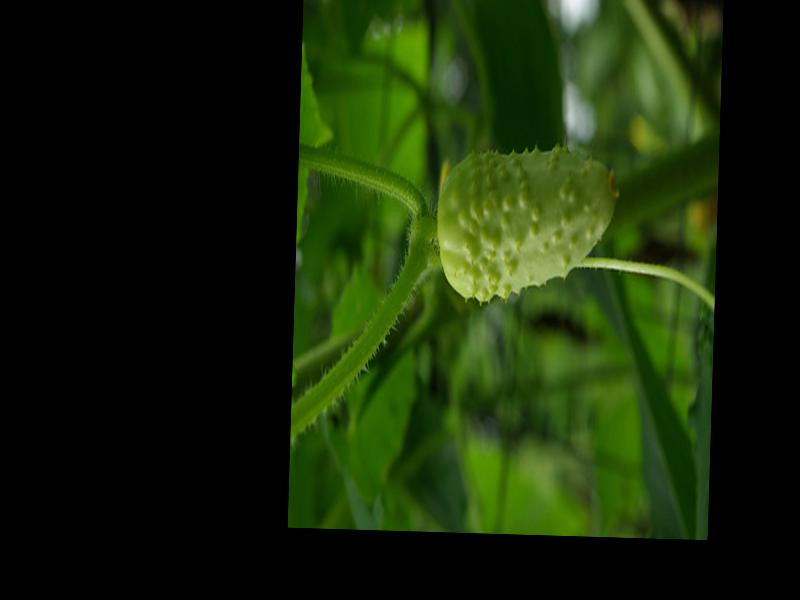Cucumber: (434, 146, 622, 307)
